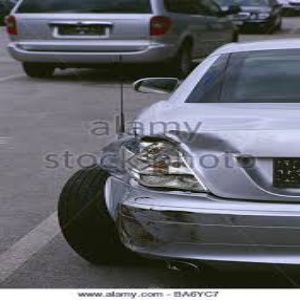bumper_scratch: (117, 198, 207, 262)
